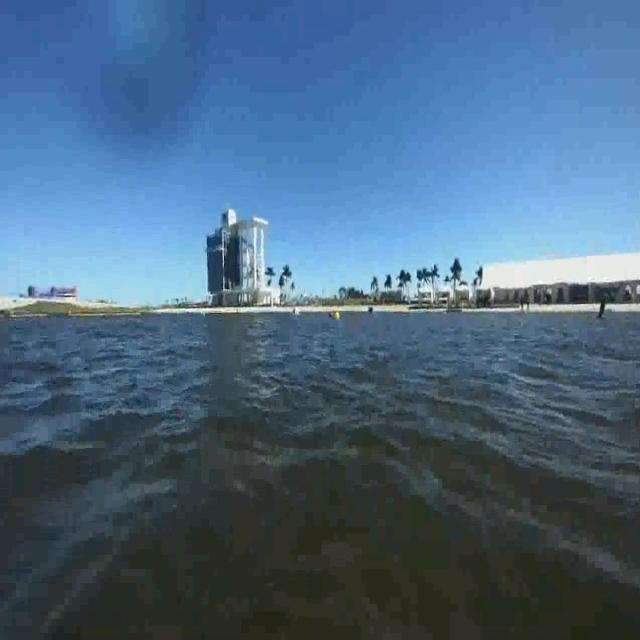yellow-buoy: (336, 311, 342, 322)
